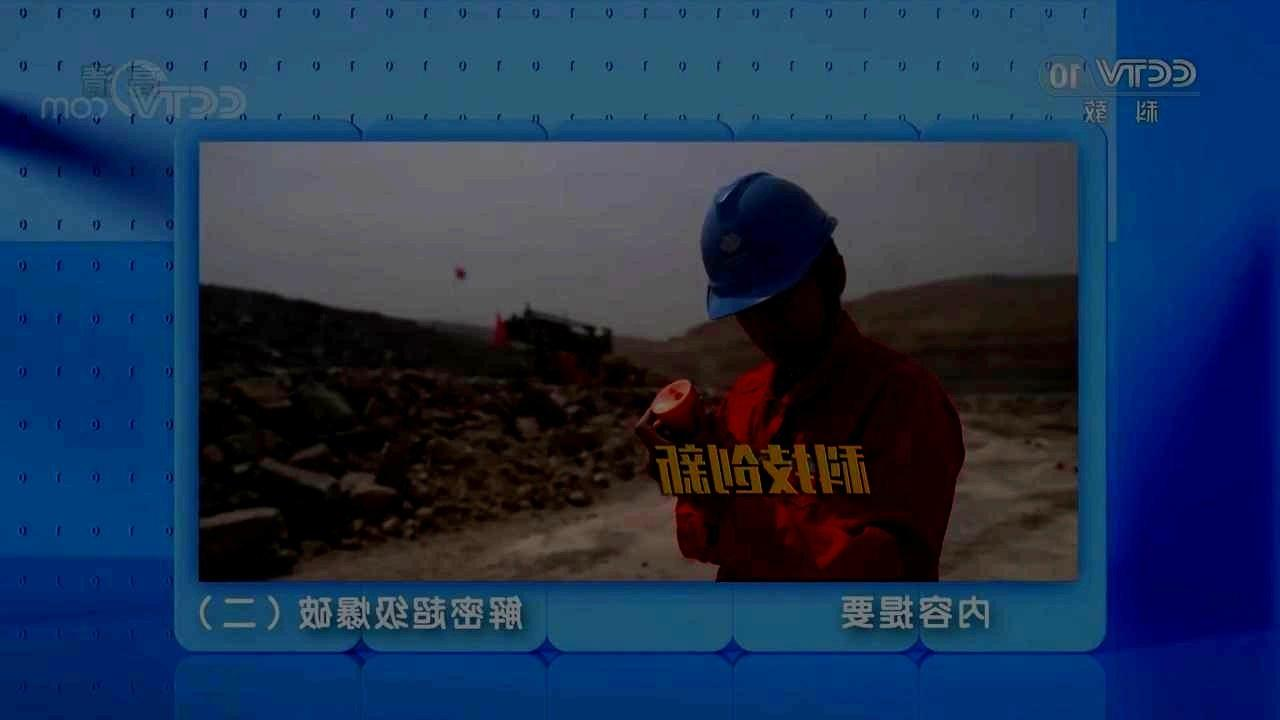helmet: (699, 171, 848, 374)
